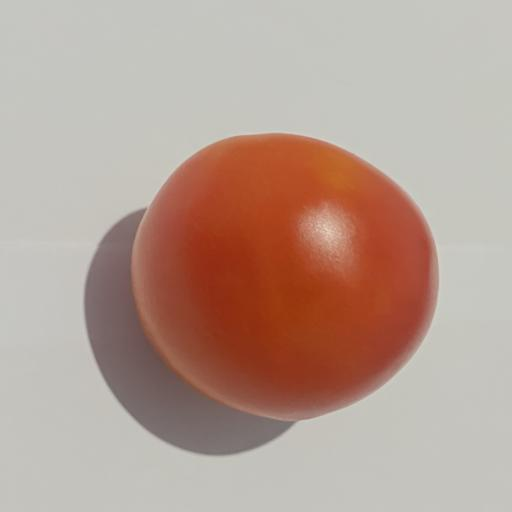ripe: (132, 134, 438, 421)
